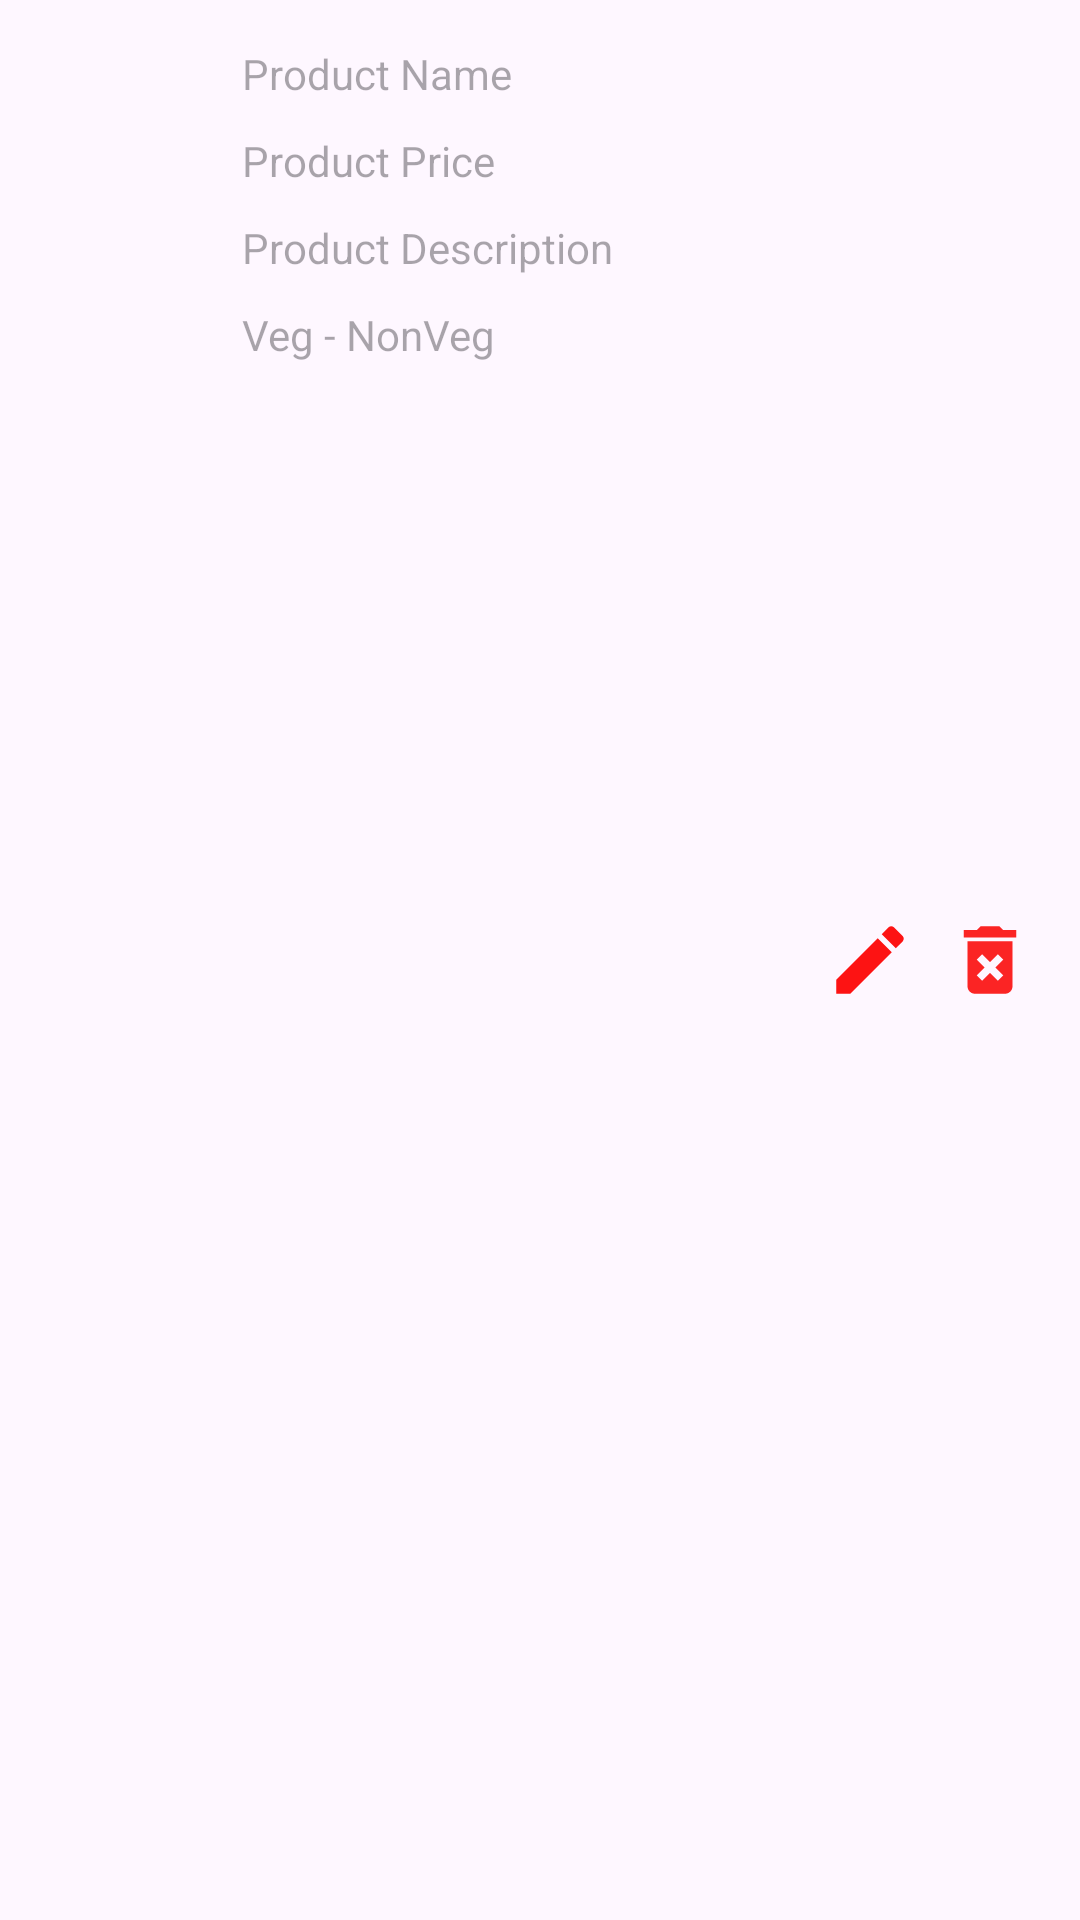

Named icons in this screenshot (1080×1920) and their centers, (x=x, y=y):
delete forever: (x=990, y=960)
mode edit: (x=870, y=960)
